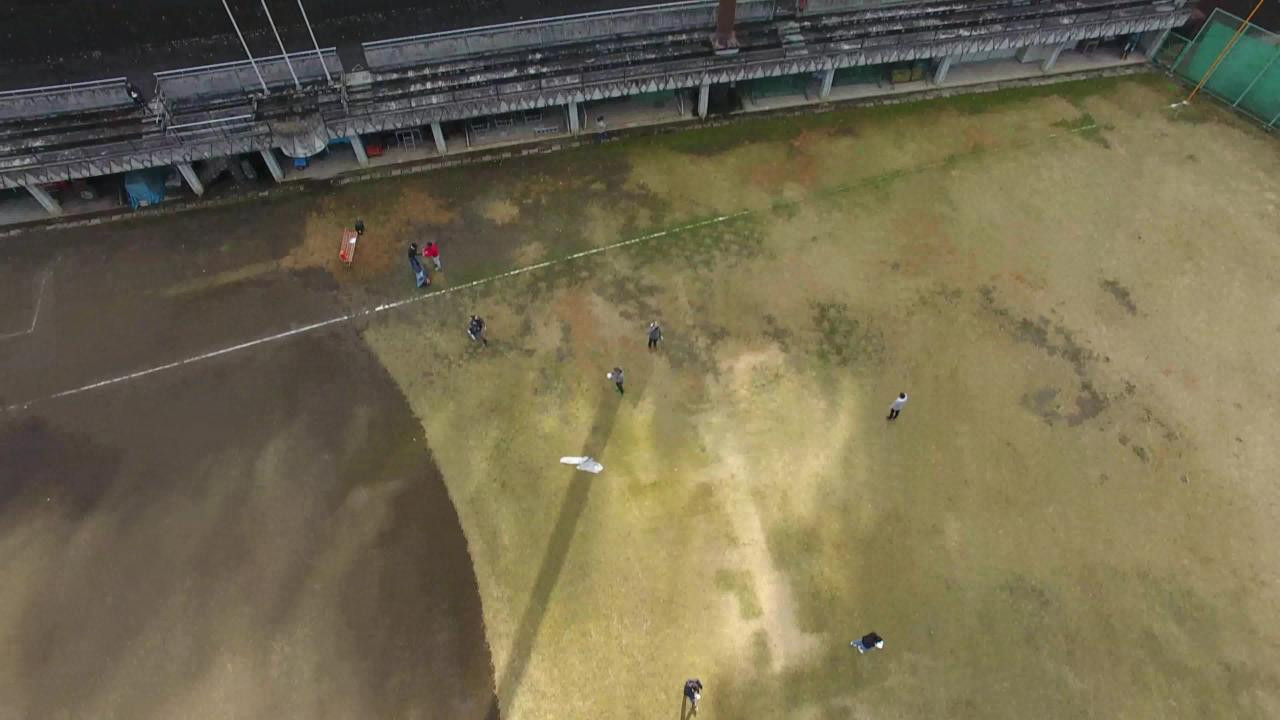person: (847, 620, 884, 664), (601, 355, 630, 407), (642, 314, 673, 359), (885, 387, 909, 429), (680, 665, 704, 707), (423, 229, 447, 271), (468, 309, 486, 346), (402, 234, 420, 271)
